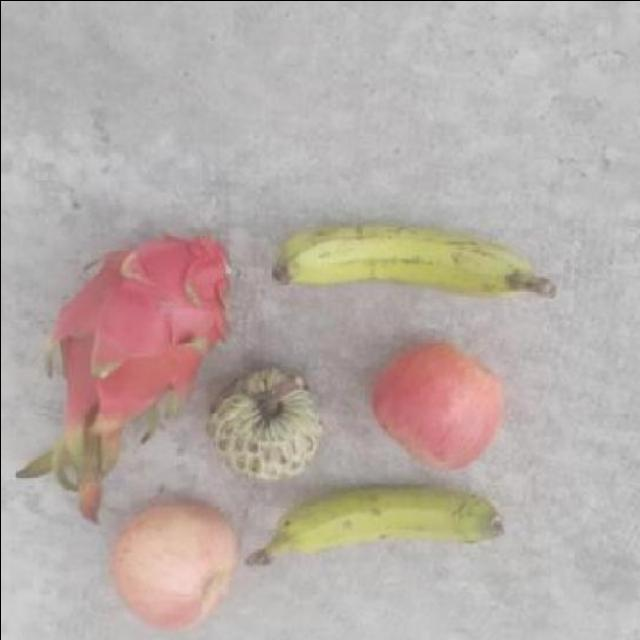apple: (367, 338, 508, 467), (112, 503, 248, 632)
banana: (272, 216, 526, 310), (271, 477, 513, 563)
dragon fruit: (50, 223, 238, 422)
sugar apple: (206, 363, 328, 478)
